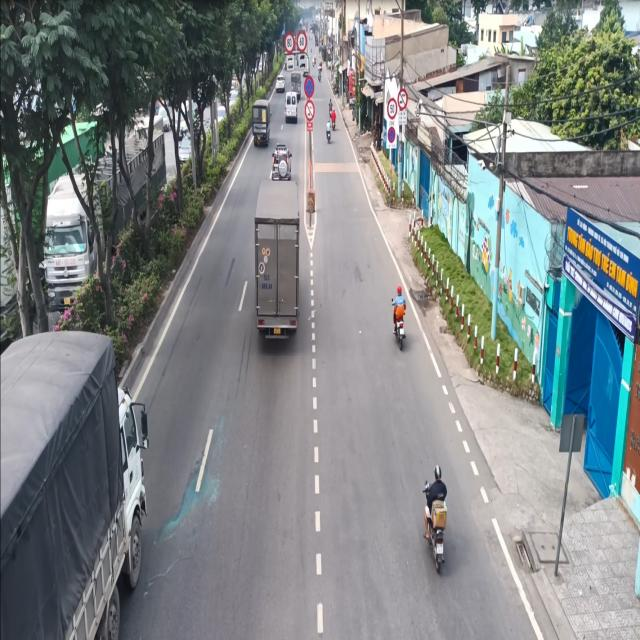car: (272, 141, 294, 182)
motor: (417, 460, 446, 579), (391, 281, 406, 348)
truck: (0, 321, 163, 640), (254, 182, 306, 352)
